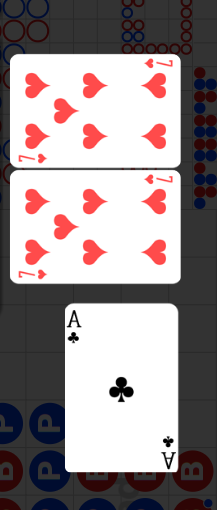7H: (17, 268, 49, 281), (17, 151, 48, 164)
AC: (158, 432, 177, 470)
